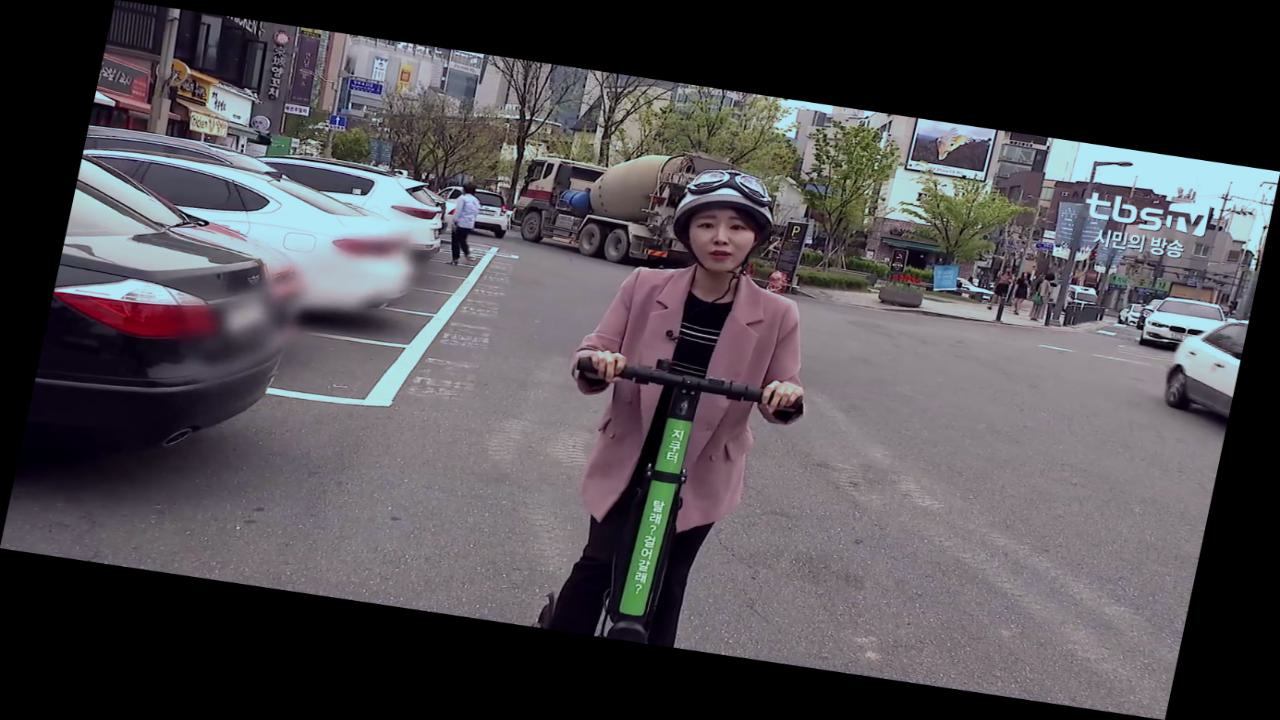helmet: (515, 151, 855, 660)
